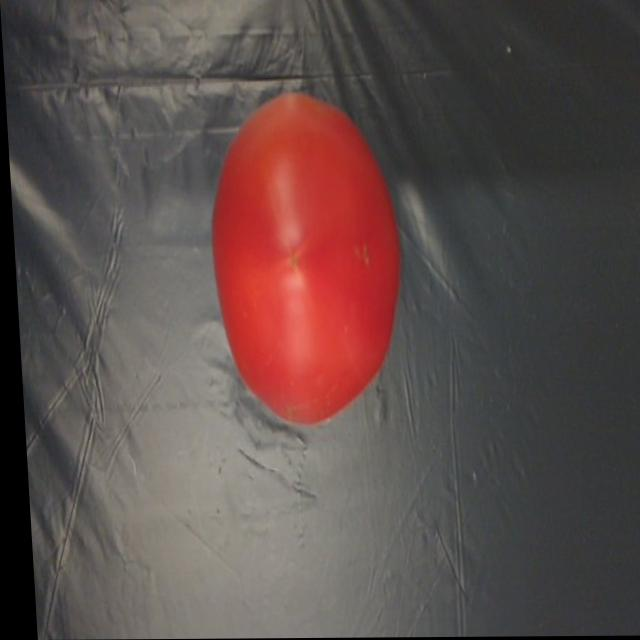kirmizi: (192, 95, 422, 431)
